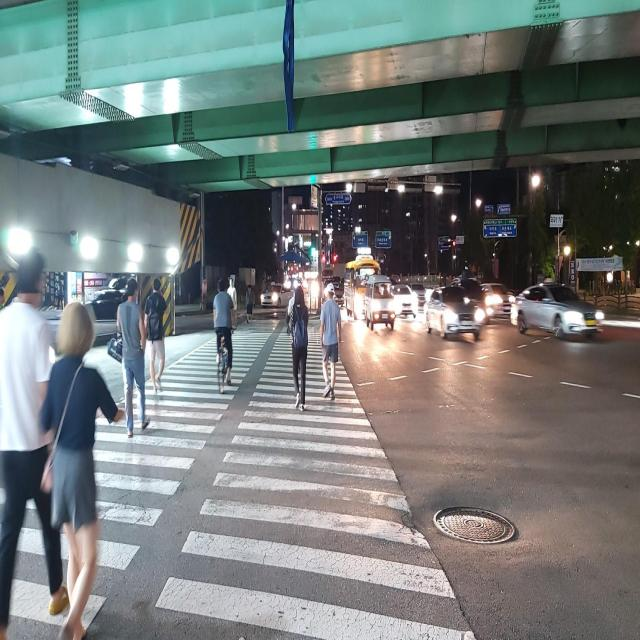횡단보도: (0, 312, 480, 640)
